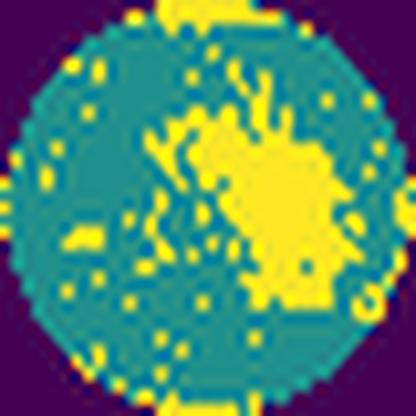Loc: (140, 62, 366, 314), (156, 0, 277, 39)
